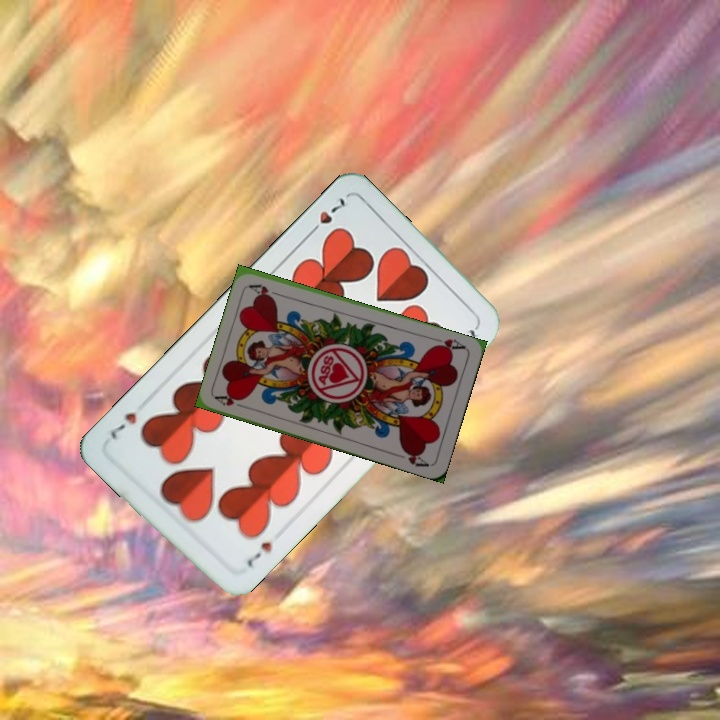H7: (303, 193, 348, 239), (243, 537, 275, 572)
HA: (212, 391, 252, 412), (430, 335, 468, 354)
